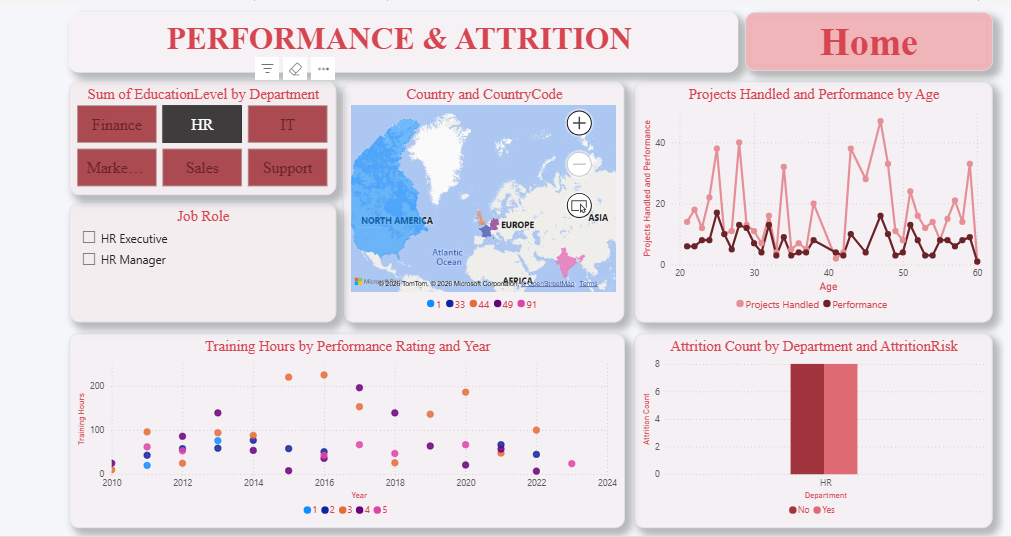

The dashboard page shown, as its layout file describes it:
{"tool":"powerbi","page":{"name":"Department","canvas":[1280,720],"ordinal":1},"visuals":[{"type":"textbox","box":[10.2,8.8,908.8,82],"z":0},{"type":"advancedSlicerVisual","fields":{"Values":["employee_performance_pro.Department"]},"box":[10.2,102.4,362.9,155.1],"z":2000},{"type":"lineChart","fields":{"Y":["Sum(employee_performance_pro.ProjectsHandled)","Sum(employee_performance_pro.PerformanceRating)"],"Category":["employee_performance_pro.Age"]},"box":[778.5,102.4,487.3,327.8],"z":3000},{"type":"clusteredColumnChart","fields":{"Y":["employee_performance_pro.Attrition Count"],"Series":["employee_performance_pro.AttritionRisk"],"Category":["employee_performance_pro.Department"]},"box":[778.5,444.9,487.3,264.9],"z":4000},{"type":"filledMap","fields":{"Category":["employee_performance_pro.Country"],"Series":["employee_performance_pro.CountryCode"]},"box":[383.4,102.4,382,327.8],"z":5000},{"type":"scatterChart","fields":{"Y":["Sum(employee_performance_pro.TrainingHours)"],"X":["employee_performance_pro.JoiningDate.Variation.Date Hierarchy.Year","employee_performance_pro.JoiningDate.Variation.Date Hierarchy.Quarter","employee_performance_pro.JoiningDate.Variation.Date Hierarchy.Month","employee_performance_pro.JoiningDate.Variation.Date Hierarchy.Day"],"Series":["employee_performance_pro.PerformanceRating"]},"box":[10.2,444.9,755.1,264.9],"z":6000},{"type":"slicer","title":"Job Role","fields":{"Values":["employee_performance_pro.JobRole"]},"box":[10.2,267.8,362.9,162.4],"z":7000},{"type":"actionButton","box":[929.3,8.8,336.6,80.5],"z":7001}]}

Visuals, with their boxes on the page's 1280x720 design canvas (x1, y1, x2, y2). These are canvas units, not pixel positions in the 1011x537 screenshot, which may show the page scaled, cropped or inside an application window:
textbox: box=[10, 9, 919, 91]
advancedSlicerVisual - employee_performance_pro.Department: box=[10, 102, 373, 258]
lineChart - Sum(employee_performance_pro.ProjectsHandled) x Sum(employee_performance_pro.PerformanceRating): box=[778, 102, 1266, 430]
clusteredColumnChart - employee_performance_pro.Attrition Count x employee_performance_pro.AttritionRisk: box=[778, 445, 1266, 710]
filledMap - employee_performance_pro.Country x employee_performance_pro.CountryCode: box=[383, 102, 765, 430]
scatterChart - Sum(employee_performance_pro.TrainingHours) x employee_performance_pro.JoiningDate.Variation.Date Hierarchy.Year: box=[10, 445, 765, 710]
"Job Role" slicer: box=[10, 268, 373, 430]
actionButton: box=[929, 9, 1266, 89]
